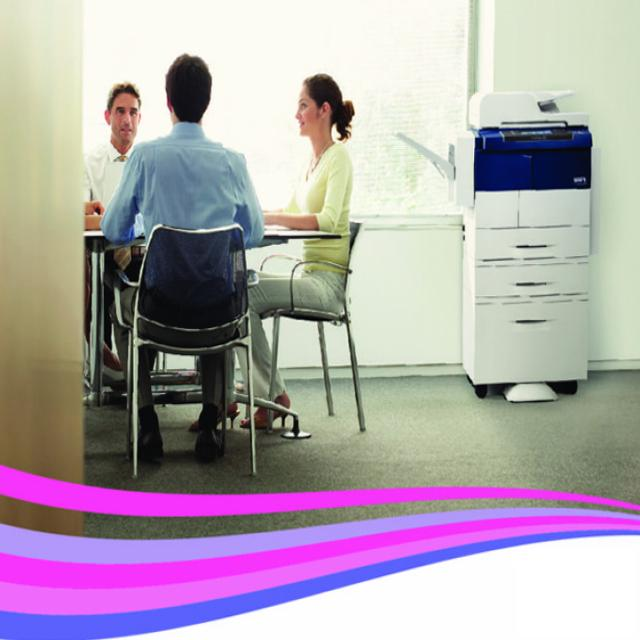printer: (395, 88, 594, 402)
